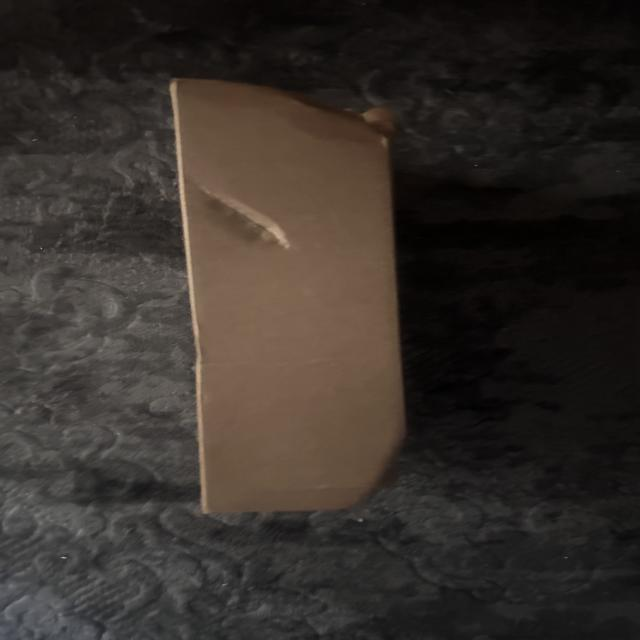damaged: (158, 75, 408, 524), (184, 172, 312, 262), (257, 75, 391, 146), (350, 424, 413, 514)
